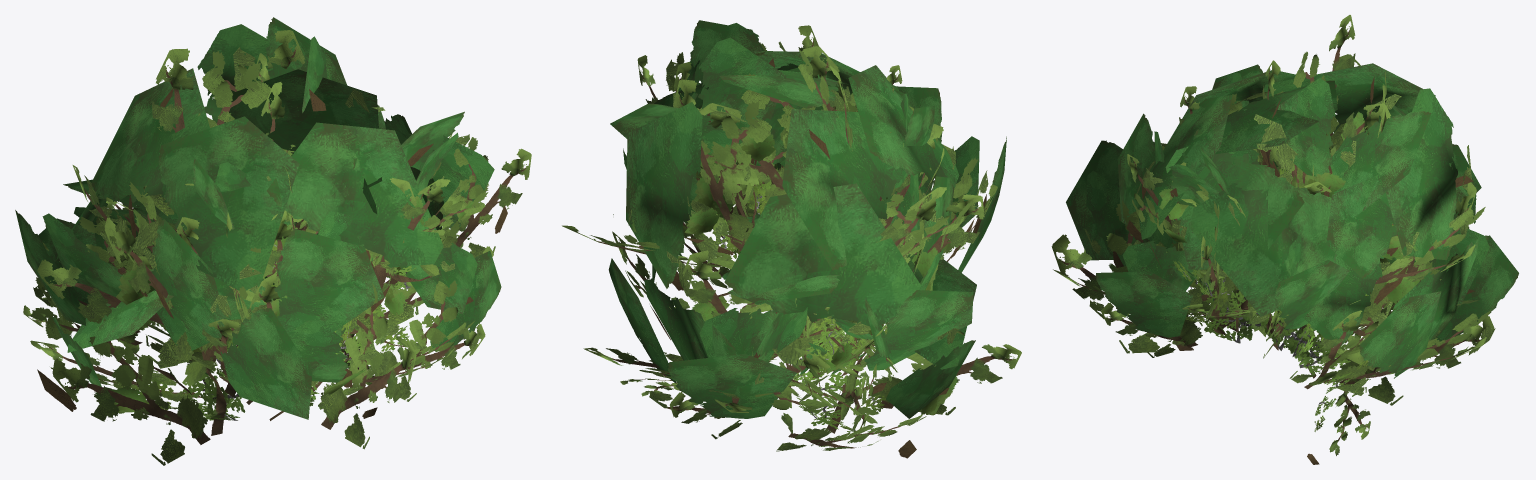
File: Arbre_001A_Feuillage.fbx
3 views of the same model, side by side, from view 1: azimuth 30°, elevation 25°; view 2: azimuth 150°, elevation 25°; view 3: azimuth 270°, elevation 25° (orthographic). The views are drawn at different scales.
Visible parts, largest first — view 1: Arbre_001A_Feuillage; view 2: Arbre_001A_Feuillage; view 3: Arbre_001A_Feuillage.
Boxes of the visible parts, x1,y1,x2,y2 form: Arbre_001A_Feuillage: (15,17,531,465); Arbre_001A_Feuillage: (562,20,1021,458); Arbre_001A_Feuillage: (1051,15,1518,464).
Size of the model in its own units: 9.61 by 8.64 by 9.79.
